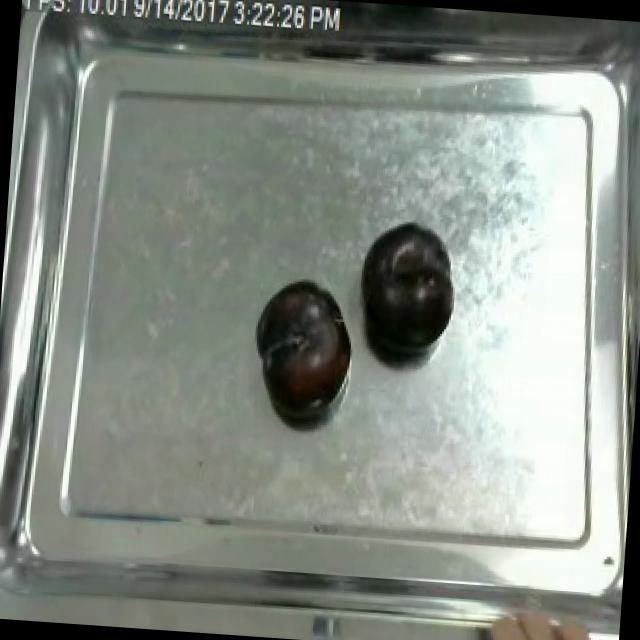Fruit: (352, 216, 462, 364), (248, 278, 354, 421)
